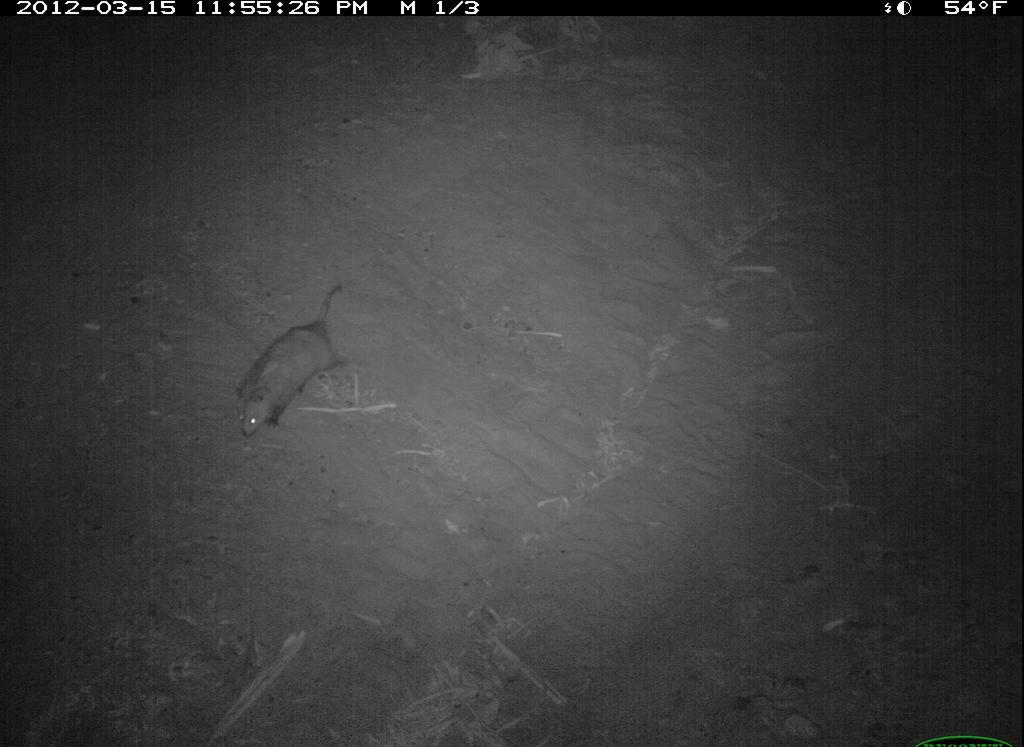opossum: (217, 271, 368, 460)
